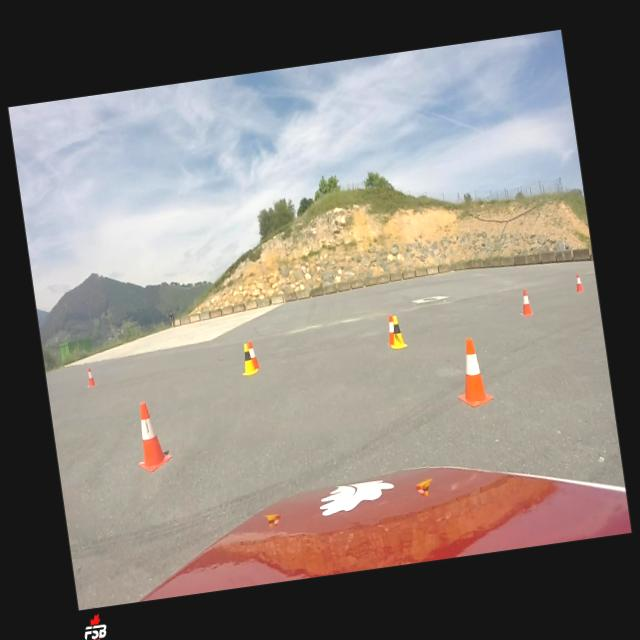orange_cone: (450, 336, 494, 408), (130, 399, 172, 473), (516, 288, 534, 318), (248, 340, 260, 370), (384, 316, 396, 346), (85, 368, 96, 388), (574, 273, 584, 293)
yellow_cone: (388, 316, 408, 349), (239, 344, 258, 376)
